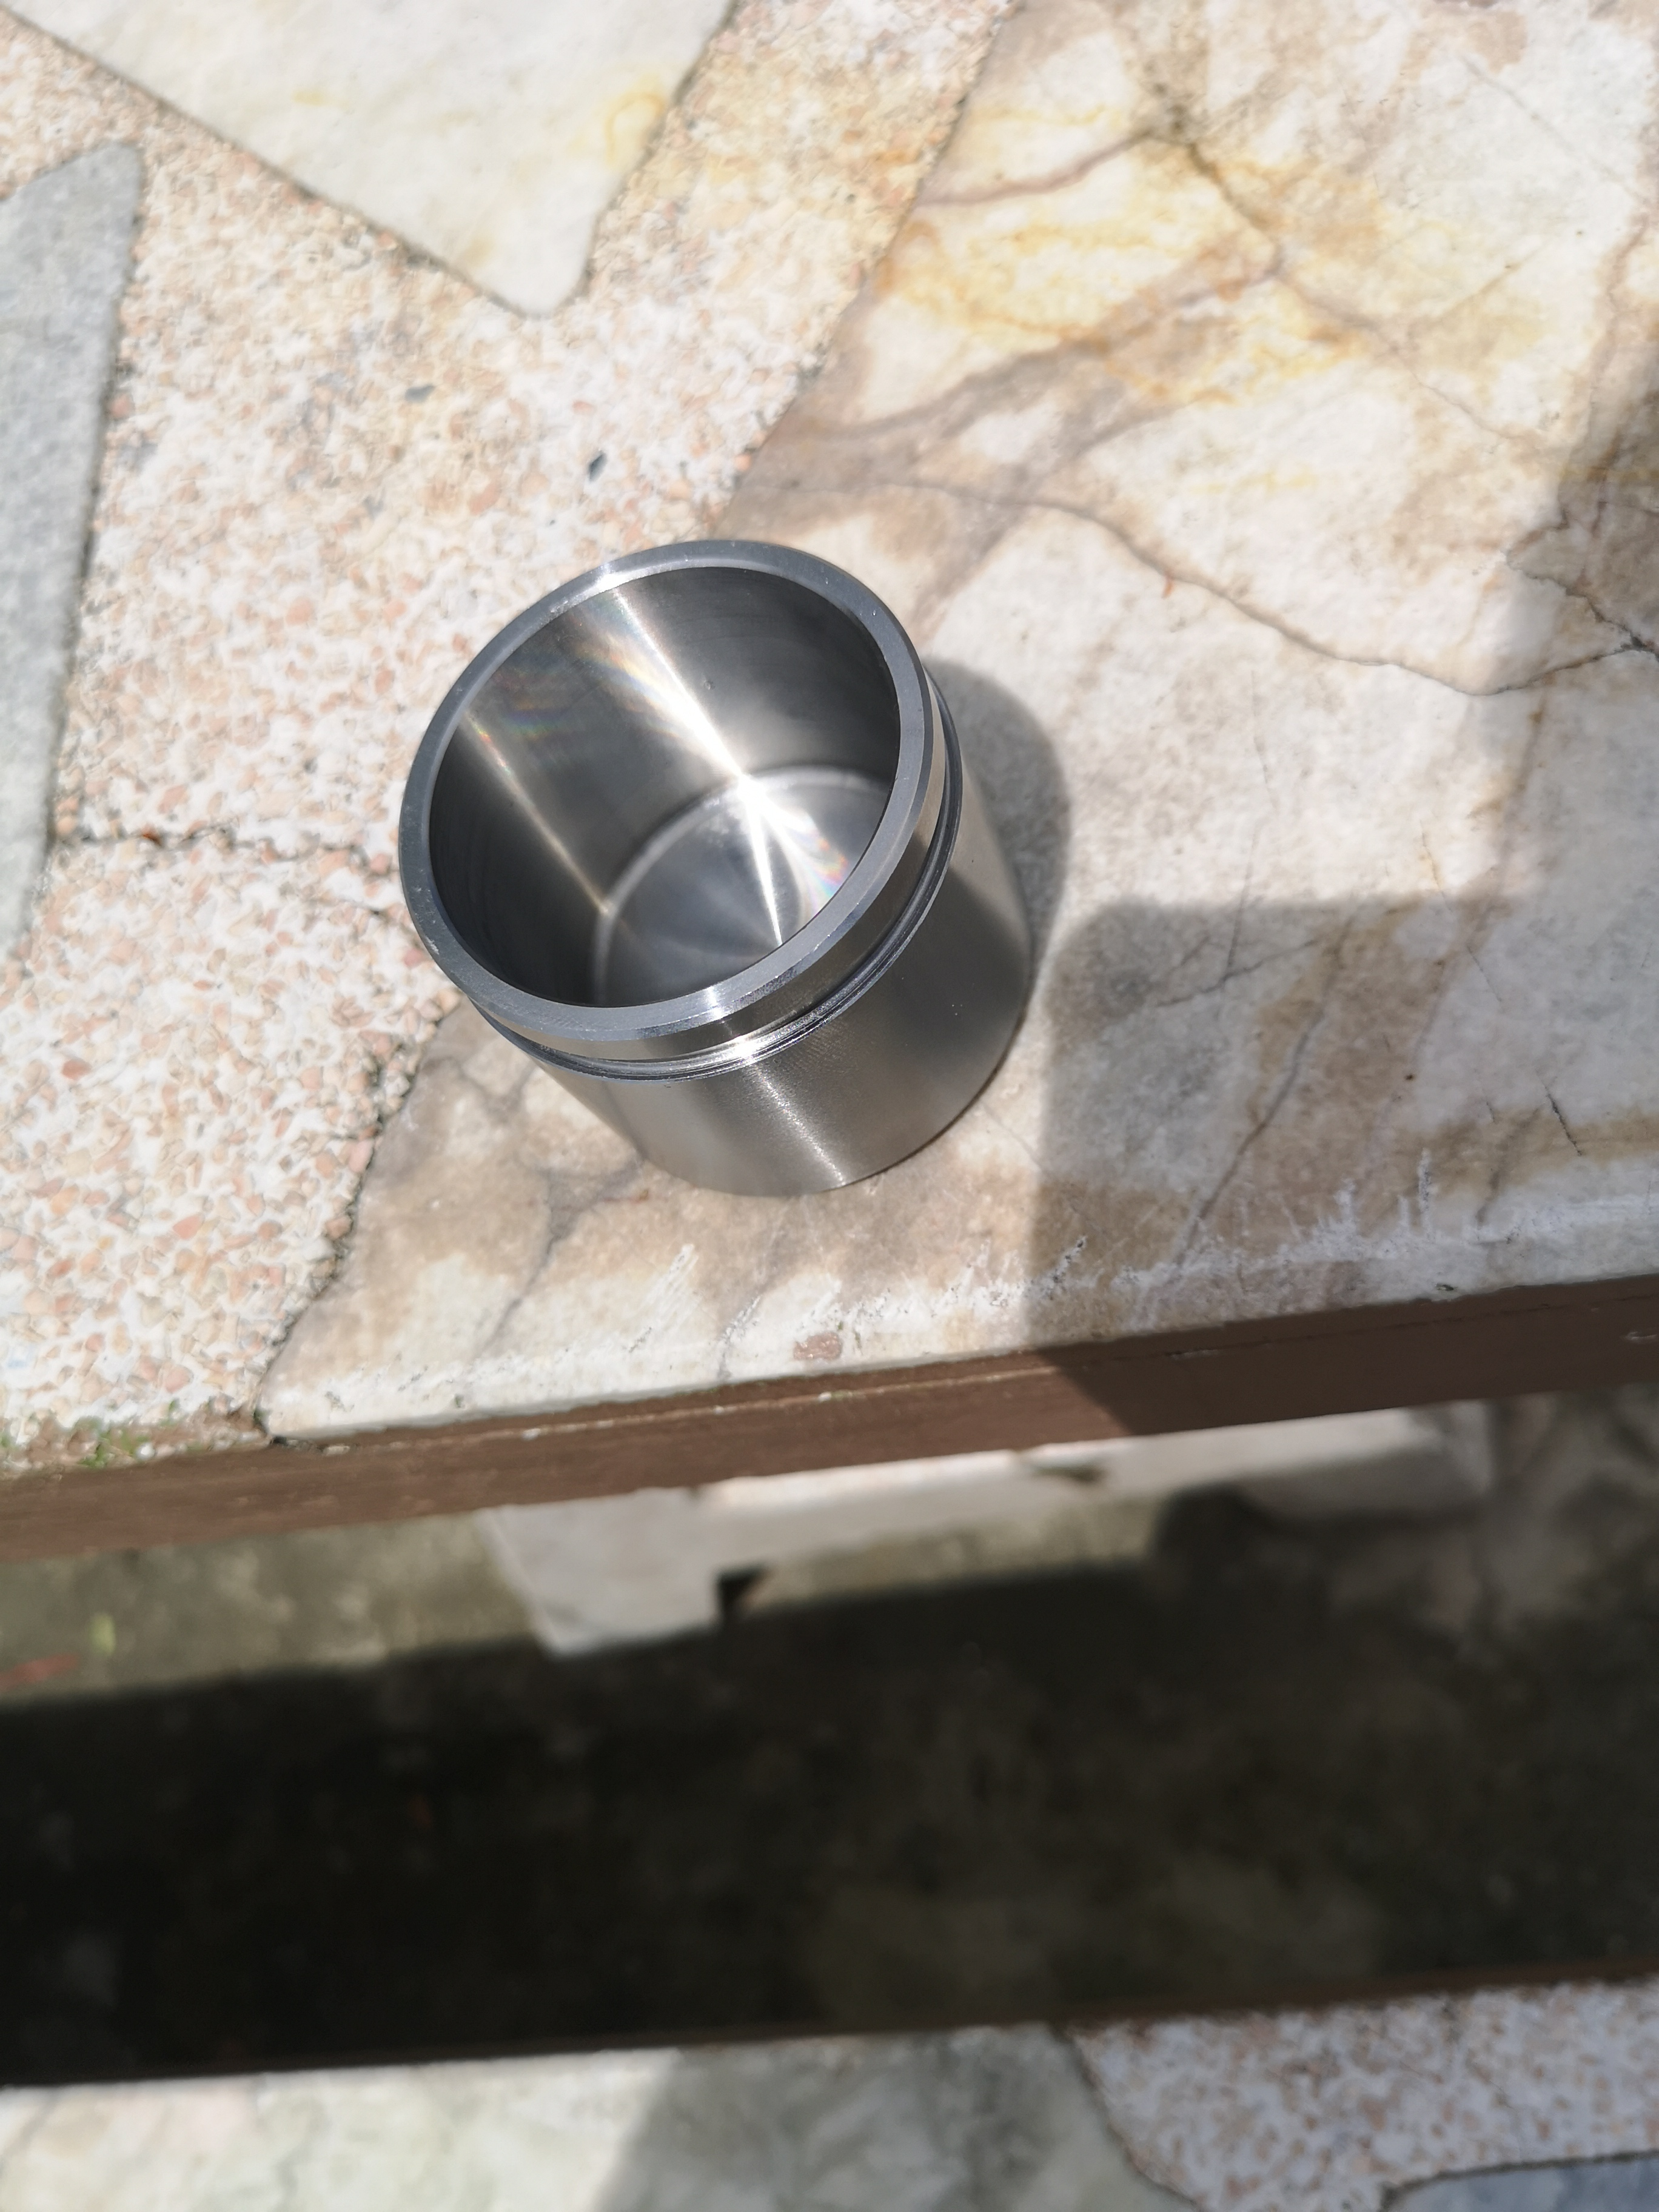ลูกสูบดิสเบรค: (336, 536, 1051, 1252)
